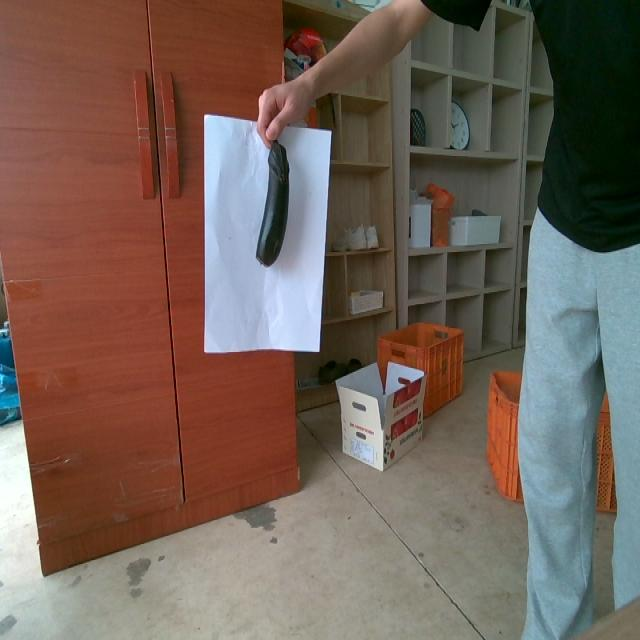Egg plant: (256, 140, 288, 265)
